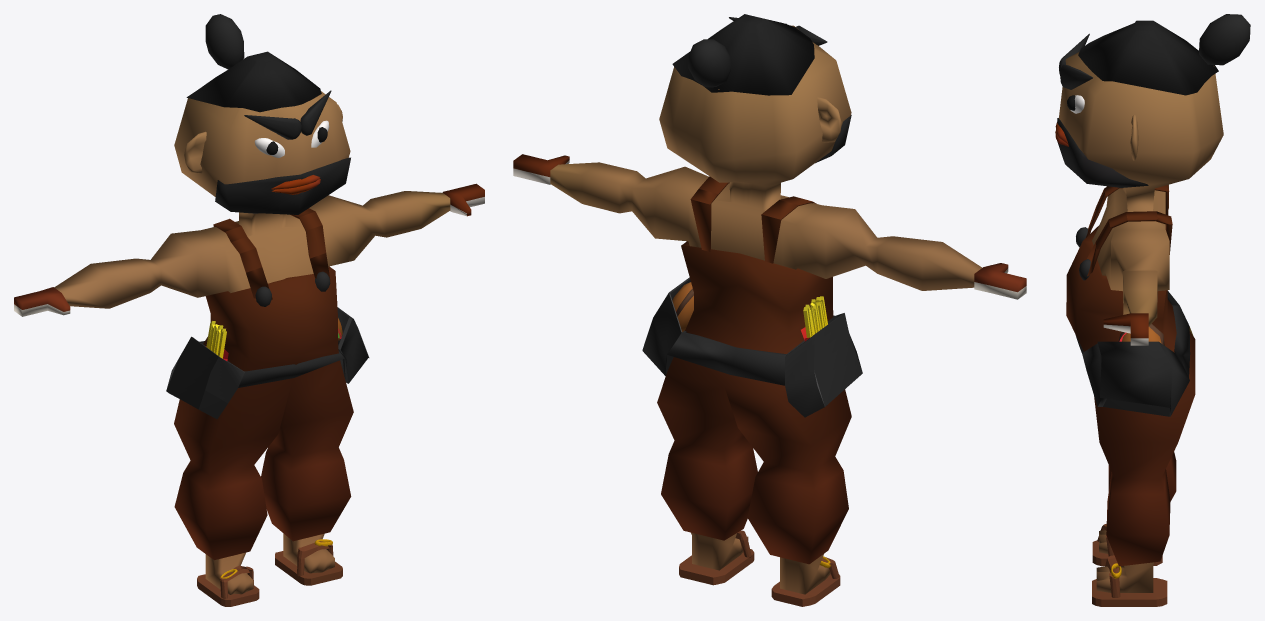
The model's file is karakter 3 kabadayı.fbx.
The picture shows the model from 3 angles, left to right: view 1: azimuth 30°, elevation 25°; view 2: azimuth 150°, elevation 25°; view 3: azimuth 270°, elevation 25°; orthographic projection. The views are drawn at different scales.
Visible parts, largest first — view 1: Cube.023; view 2: Cube.023; view 3: Cube.023.
Boxes of the visible parts, x1,y1,x2,y2 form: Cube.023: (14,14,484,606); Cube.023: (513,14,1026,606); Cube.023: (1055,14,1250,606).
Size of the model in its own units: 170 by 186 by 58.36.
1 material, 1 textured.
